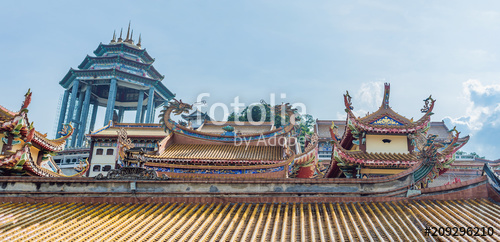Buddhist Temple: (58, 19, 164, 159)
